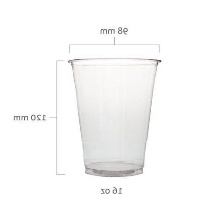glass: (59, 51, 167, 178)
